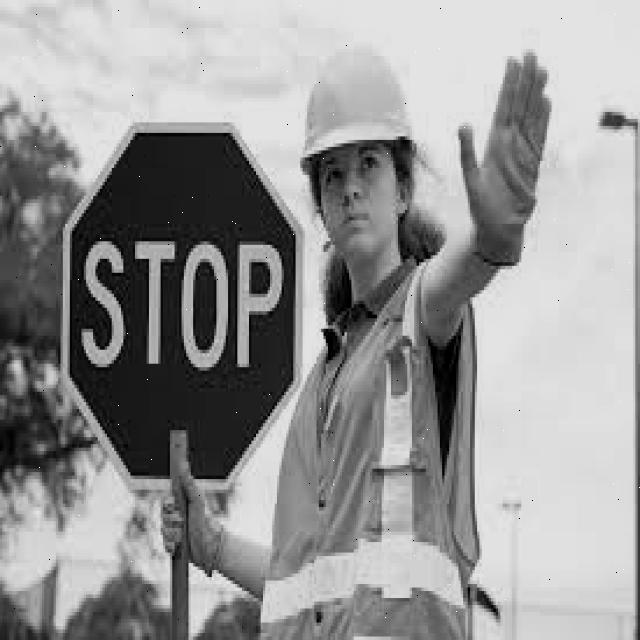stop sign: (56, 108, 302, 496)
